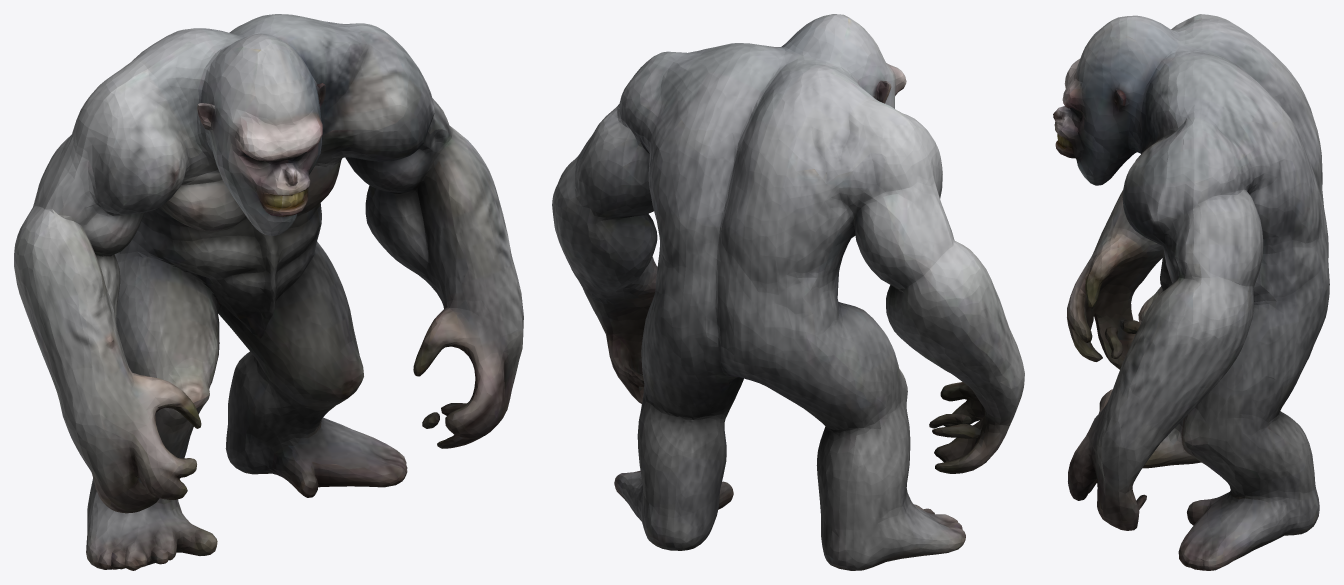
Rendered from yeti.glb.
3 renders of one model, left to right at view 1: azimuth 30°, elevation 25°; view 2: azimuth 150°, elevation 25°; view 3: azimuth 270°, elevation 25°, orthographic. The views are drawn at different scales.
Parts seen in each view (by area): view 1: world; view 2: world; view 3: world.
Boxes of the visible parts, x1=… form: world: x1=14, y1=14, x2=523, y2=570; world: x1=552, y1=14, x2=1024, y2=570; world: x1=1053, y1=14, x2=1329, y2=570.
Bounding box in the file's own units: 0.9313 × 0.997 × 0.5247.
Materials: 1 (1 with a texture image).
